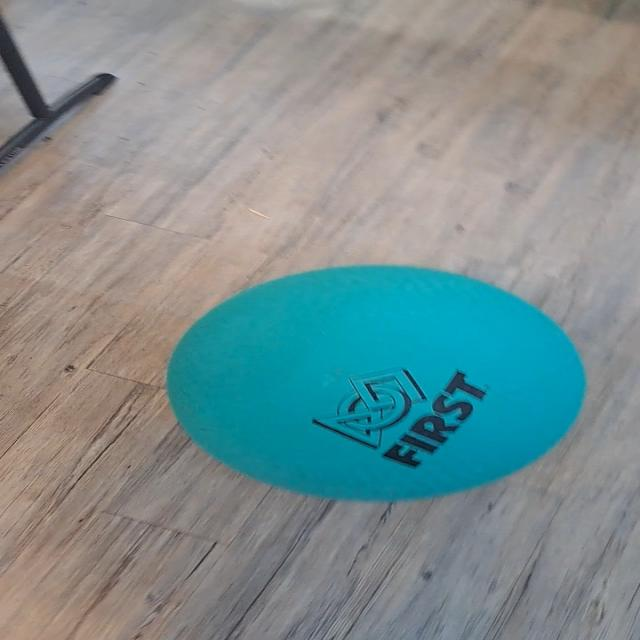ALGAE: (162, 262, 588, 502)
